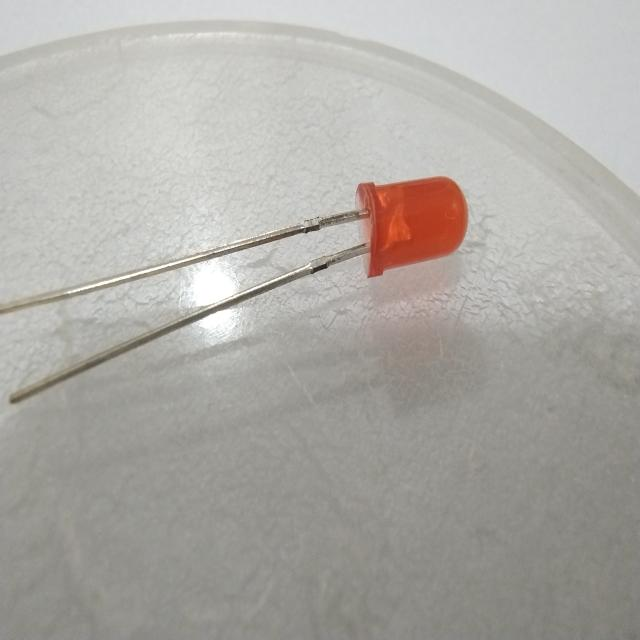red_led: (351, 173, 476, 283)
